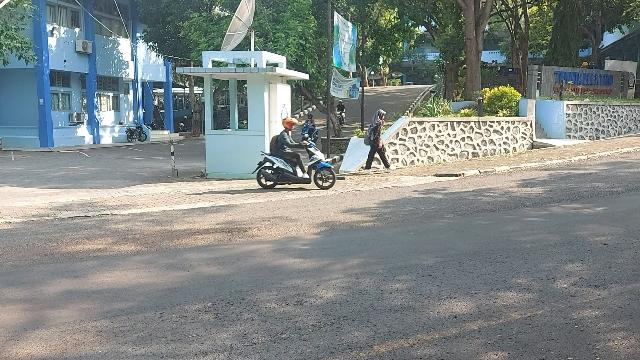helm: (284, 119, 299, 131)
motor: (253, 135, 337, 191)
